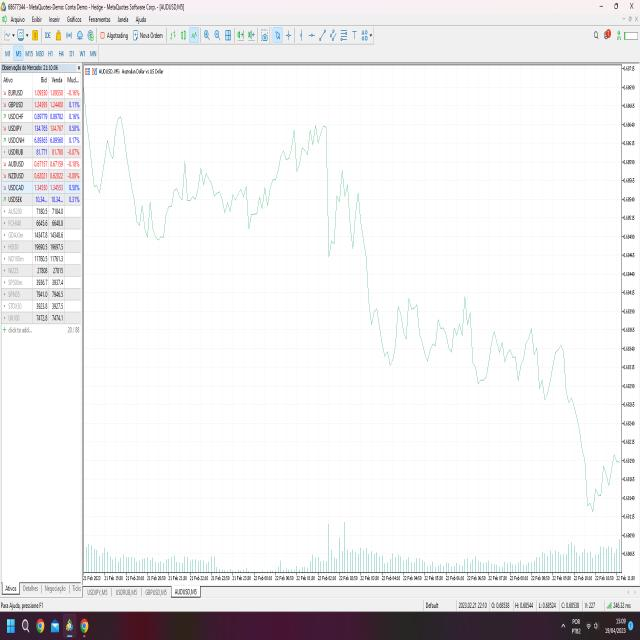oco: (333, 165, 354, 239)
